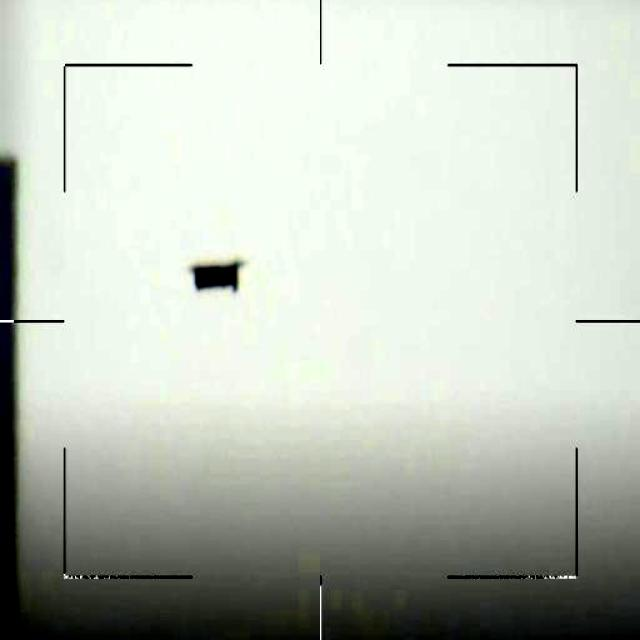bird: (188, 258, 242, 289)
